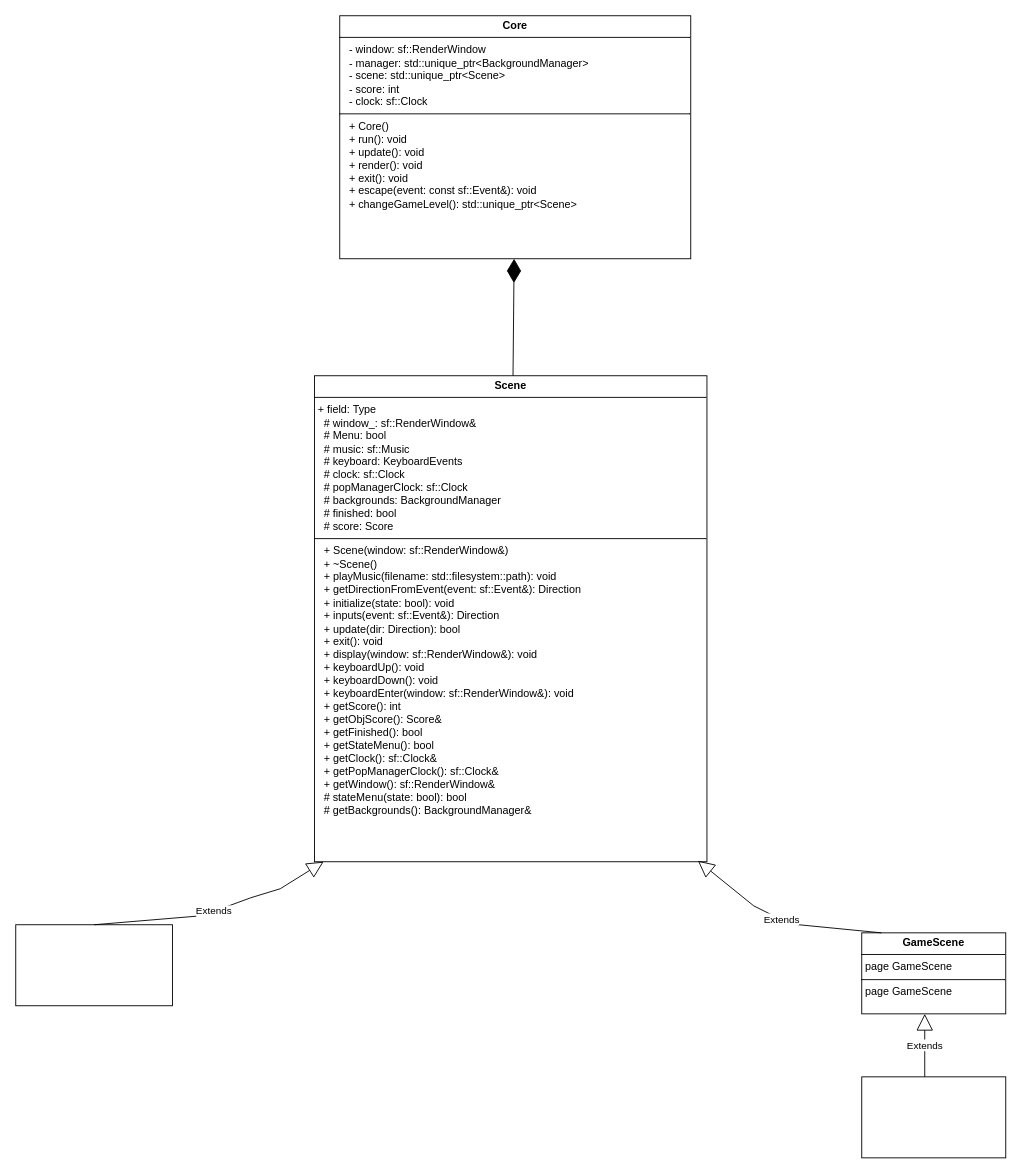
Image size: 1022x1174. Some labels were removed from this diagram. Here are the shapes that lost their labels. From the top down, the centre of each, then its label:
the point at 93,965: Menu page Menu page Menu
the point at 933,1117: Level1 page Level1 page Level1
